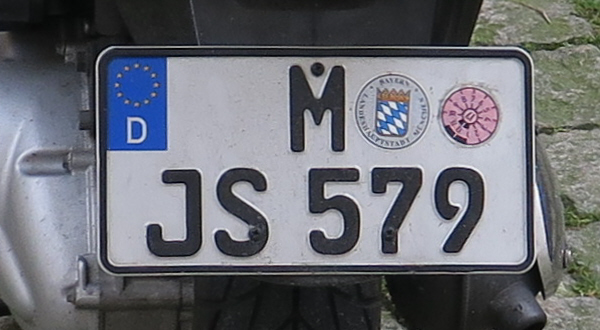license_plate: (97, 46, 535, 271)
